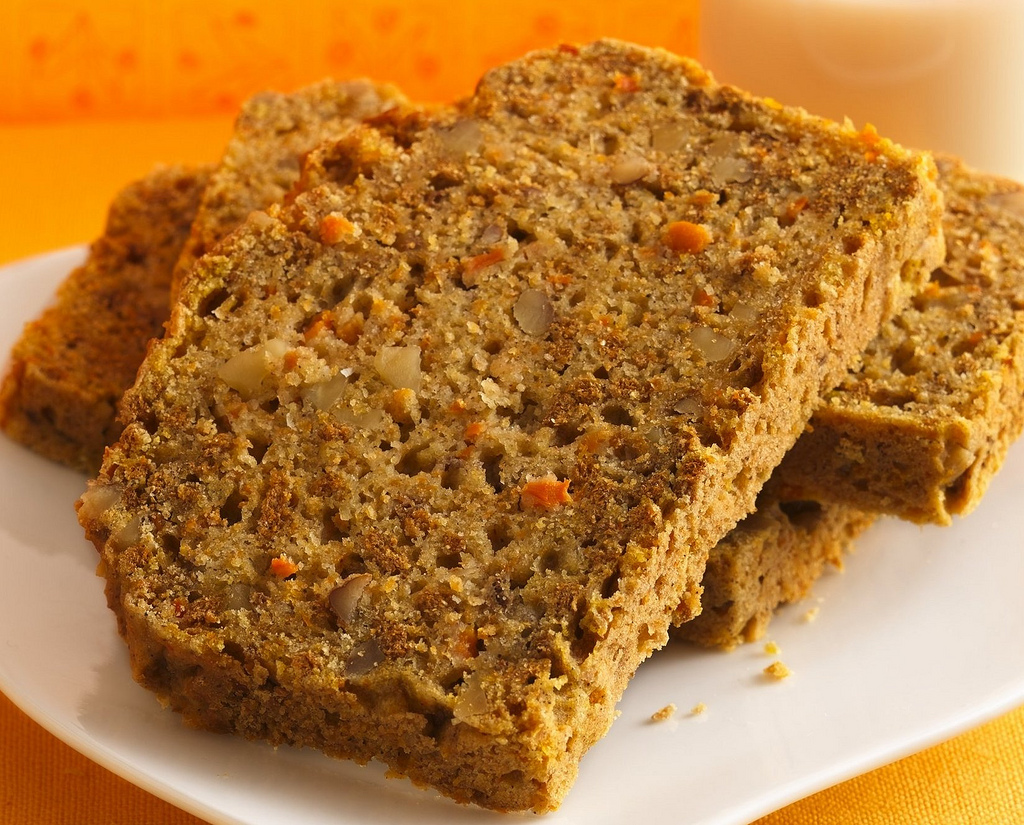slice of bread: (229, 86, 892, 758)
